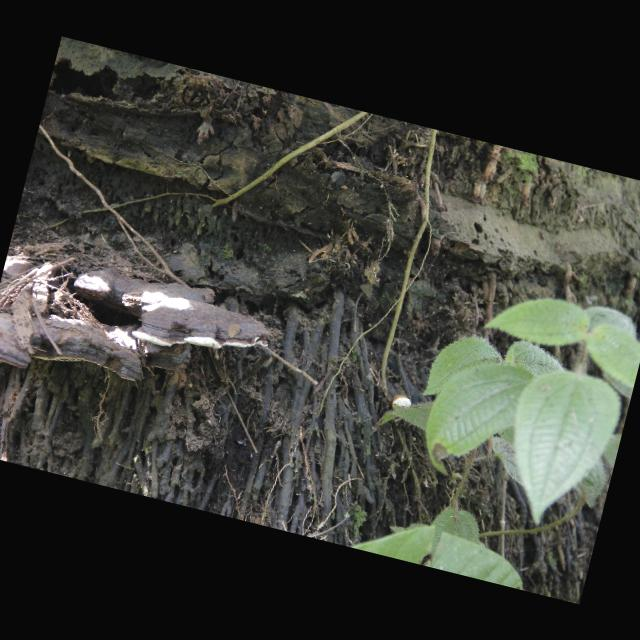ganoderma: (64, 256, 280, 374), (1, 288, 197, 409)
primordium: (389, 393, 415, 416)
